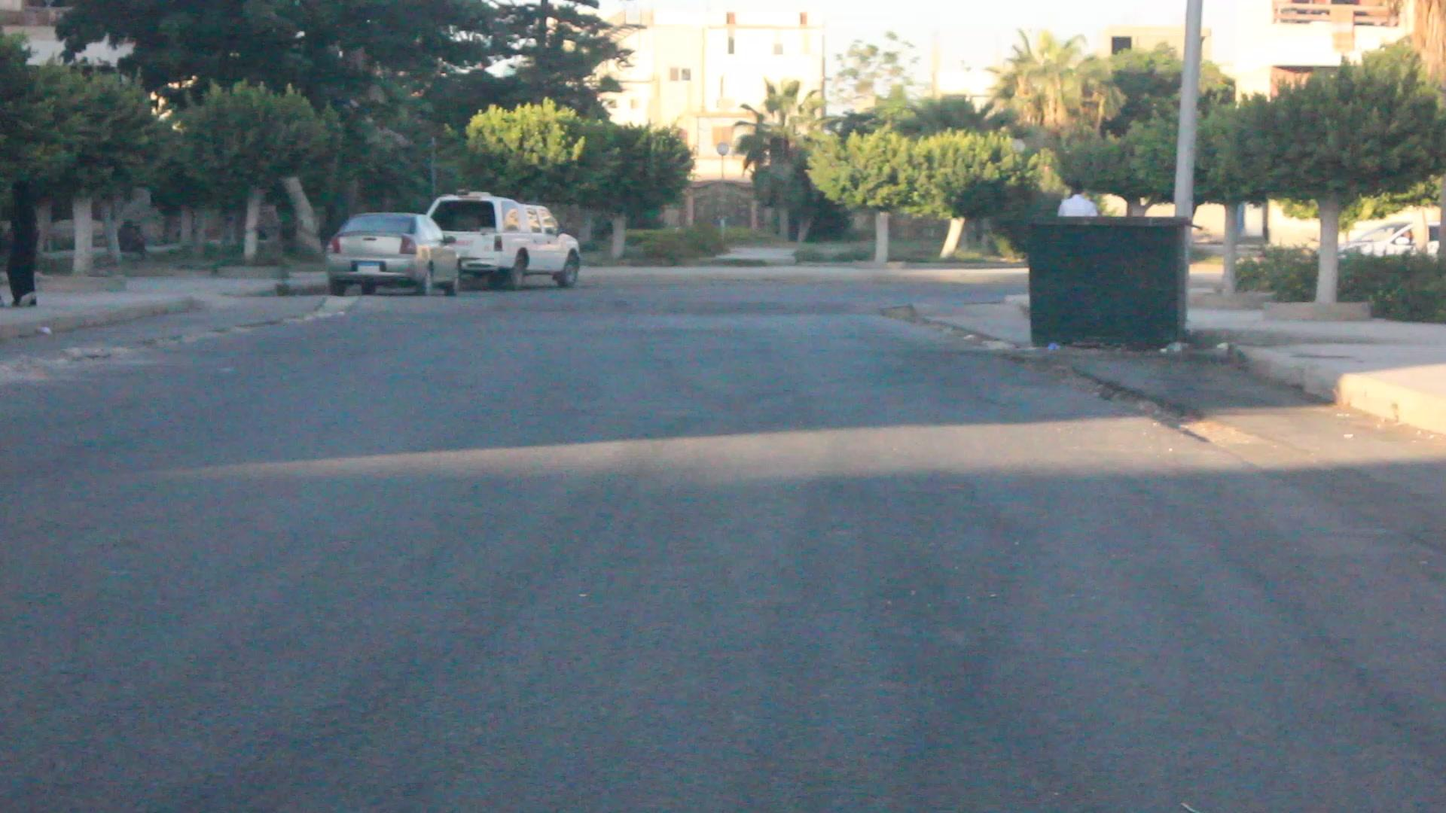Bump: (199, 299, 918, 319)
